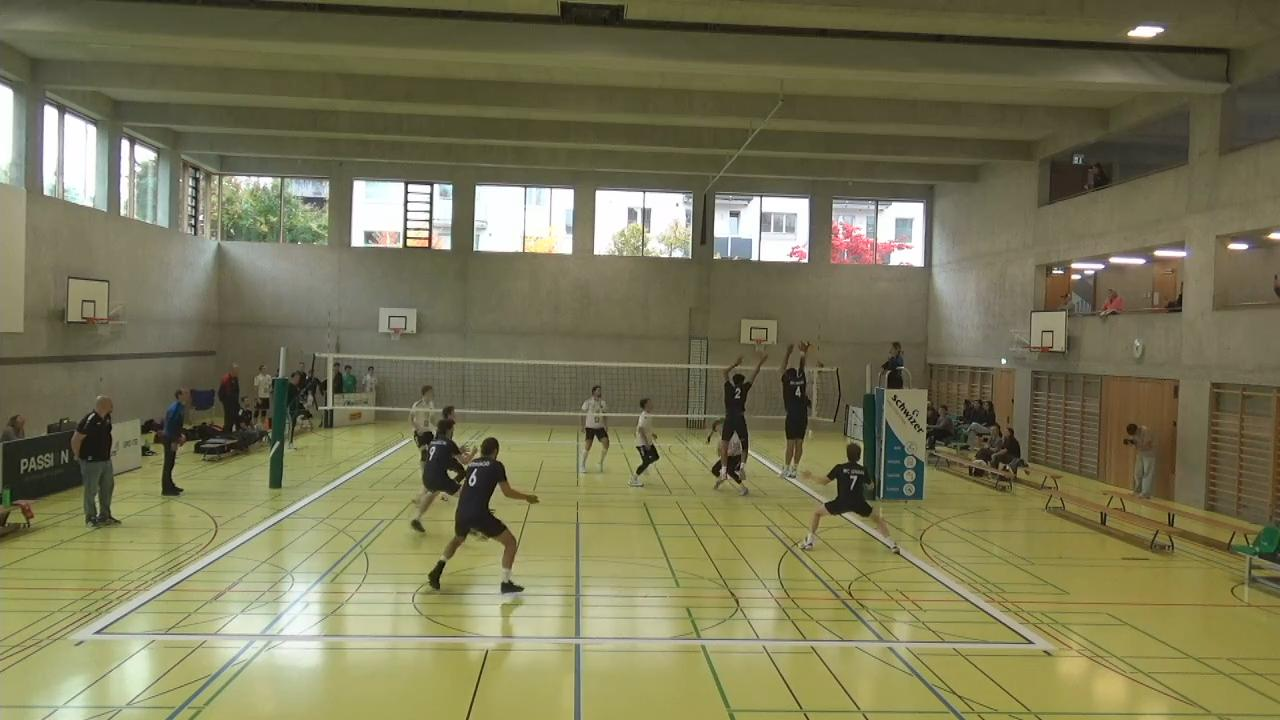Block: (715, 342, 768, 486), (777, 338, 821, 485)
Player: (426, 435, 538, 594), (800, 442, 905, 552), (411, 412, 478, 537), (627, 397, 664, 489), (575, 384, 611, 474), (709, 421, 752, 496), (410, 385, 437, 469), (440, 402, 455, 423)
ball: (796, 336, 812, 356)
